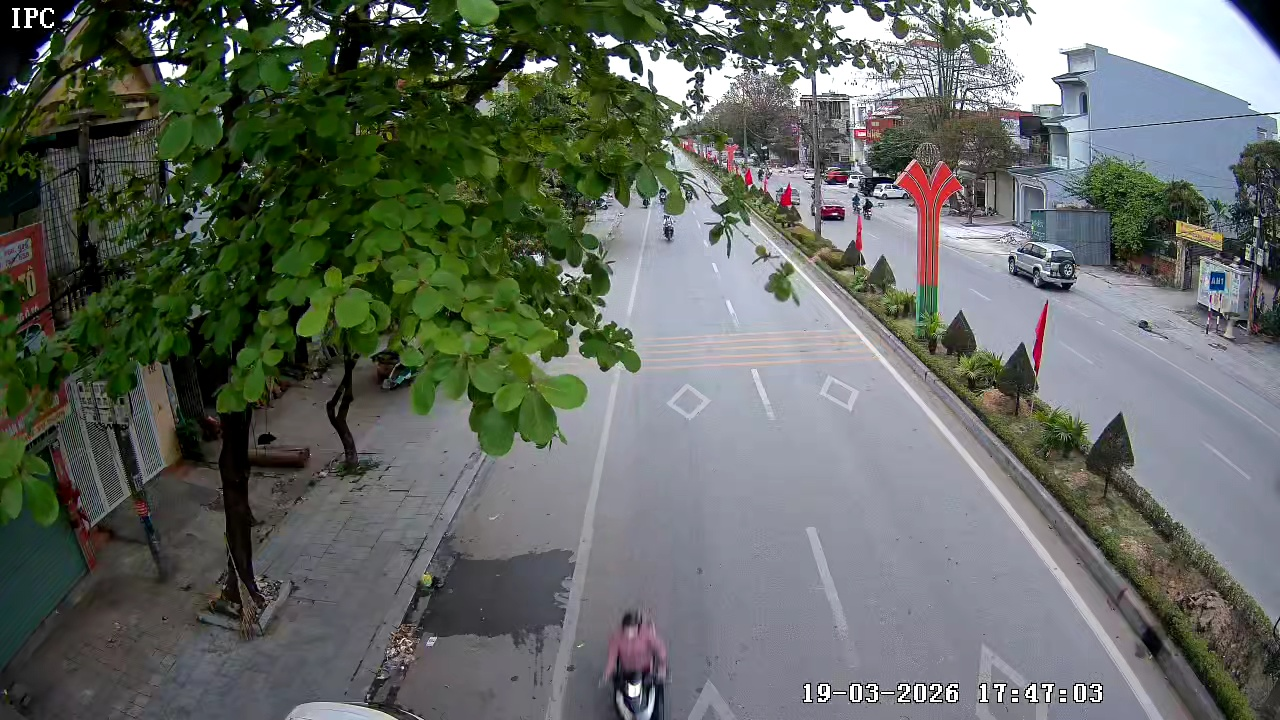car: (1006, 240, 1079, 291), (814, 185, 850, 221)
motorbike: (598, 600, 674, 719), (660, 208, 677, 243)
